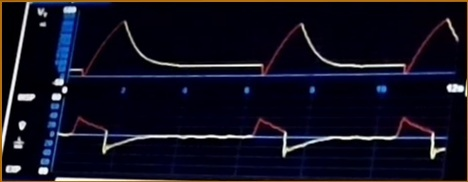Flow: (65, 101, 445, 175)
Leakage Volume: (70, 14, 461, 81)
